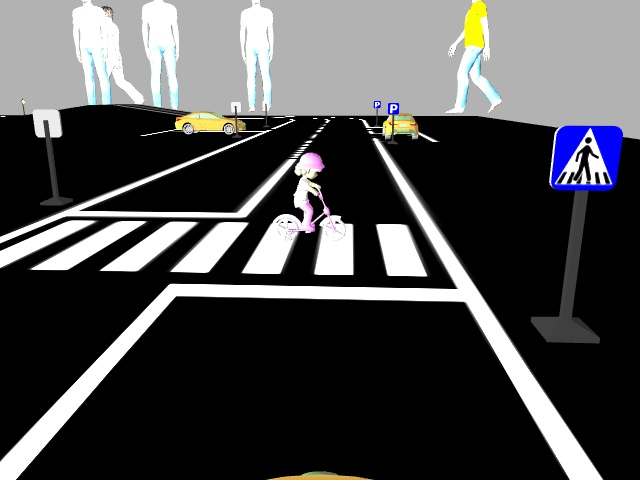Crosswalk: (548, 126, 622, 190)
Parking: (387, 100, 401, 117)
Pedestrian: (270, 148, 349, 244)
